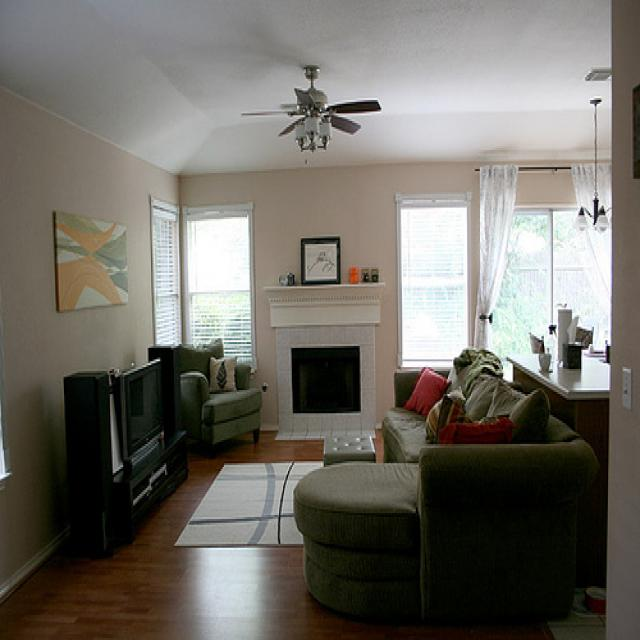chair: (180, 337, 262, 457)
dining table: (506, 311, 610, 401)
